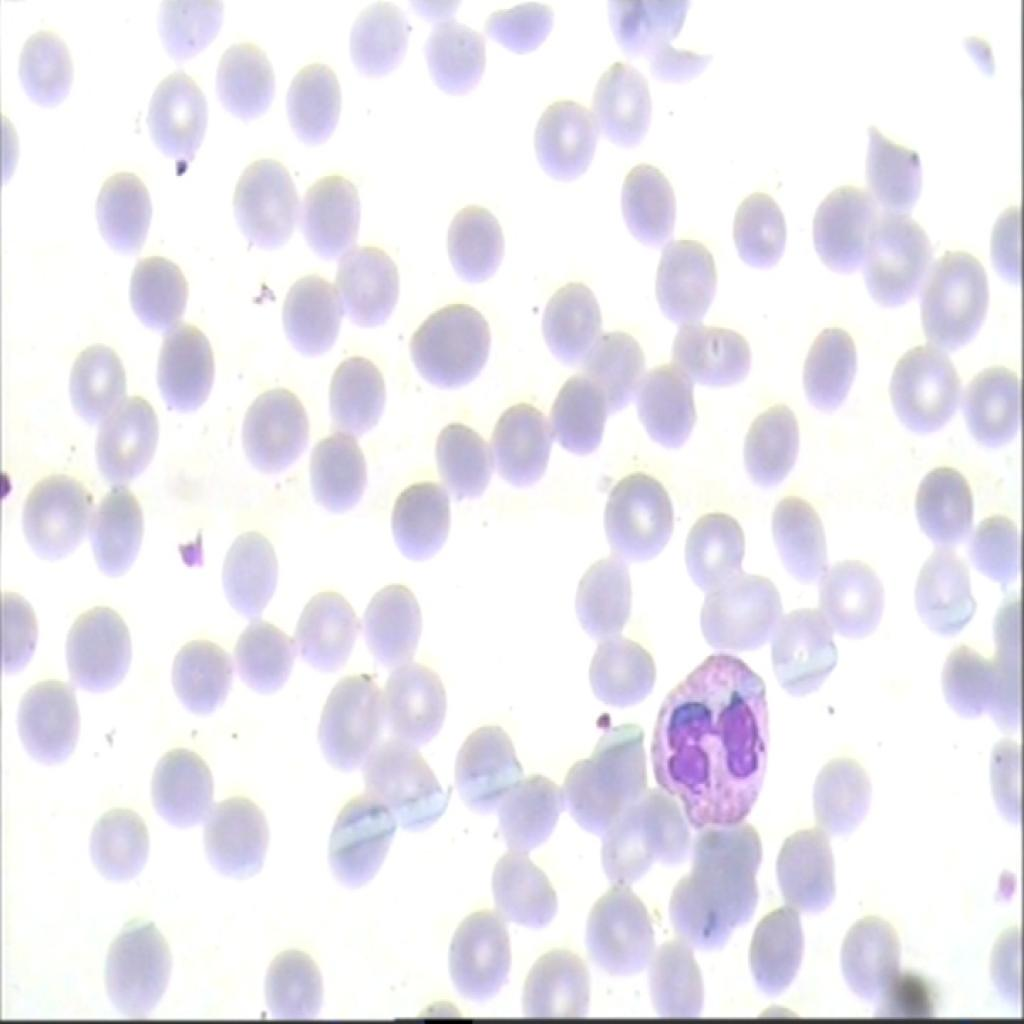Neutrofil: (643, 636, 774, 842)
Platelet: (586, 695, 610, 749), (178, 522, 202, 570), (169, 140, 192, 186), (0, 454, 17, 508)
